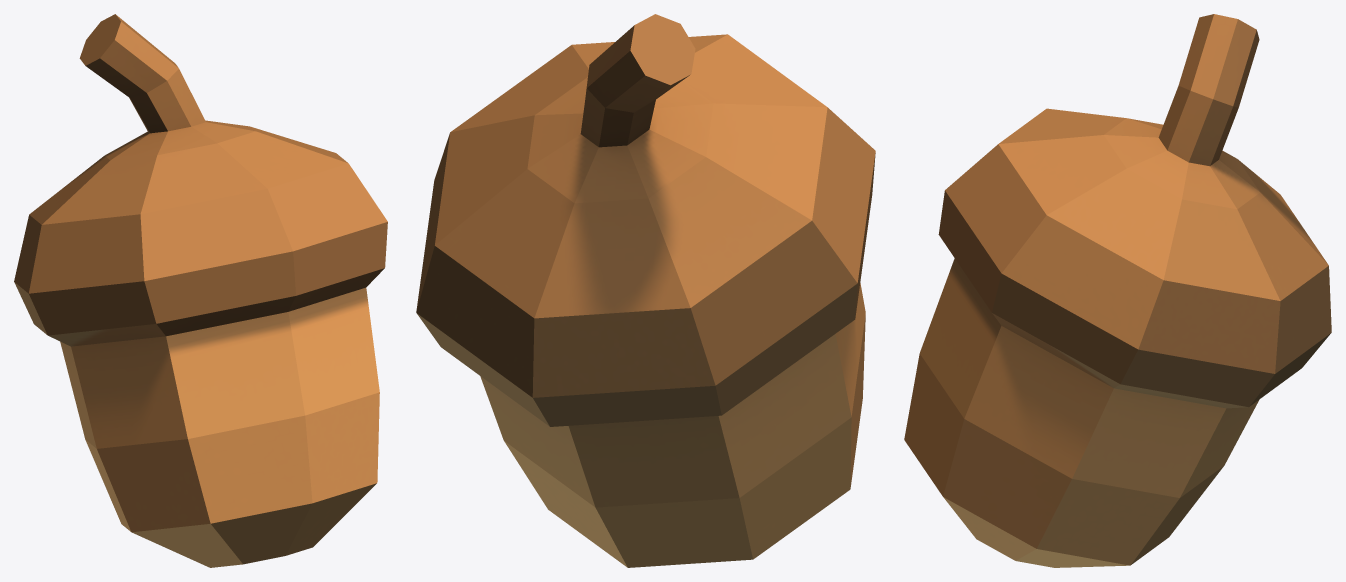
Rendered from oak-harvest.glb.
3 renders of one model, left to right at view 1: azimuth 30°, elevation 25°; view 2: azimuth 150°, elevation 25°; view 3: azimuth 270°, elevation 25°, orthographic. The views are drawn at different scales.
Visible parts, largest first — view 1: acorn; view 2: acorn; view 3: acorn.
Boxes of the visible parts, x1=… form: acorn: x1=14, y1=14, x2=387, y2=567; acorn: x1=416, y1=14, x2=875, y2=567; acorn: x1=904, y1=14, x2=1331, y2=567.
Size of the model in its own units: 0.7281 by 1 by 0.7457.
Materials: 1 (1 with a texture image).
